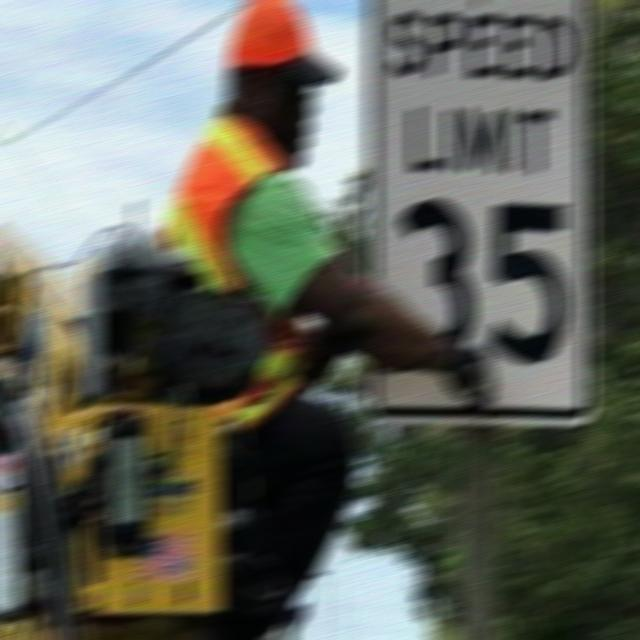speedLimit35: (367, 20, 596, 423)
